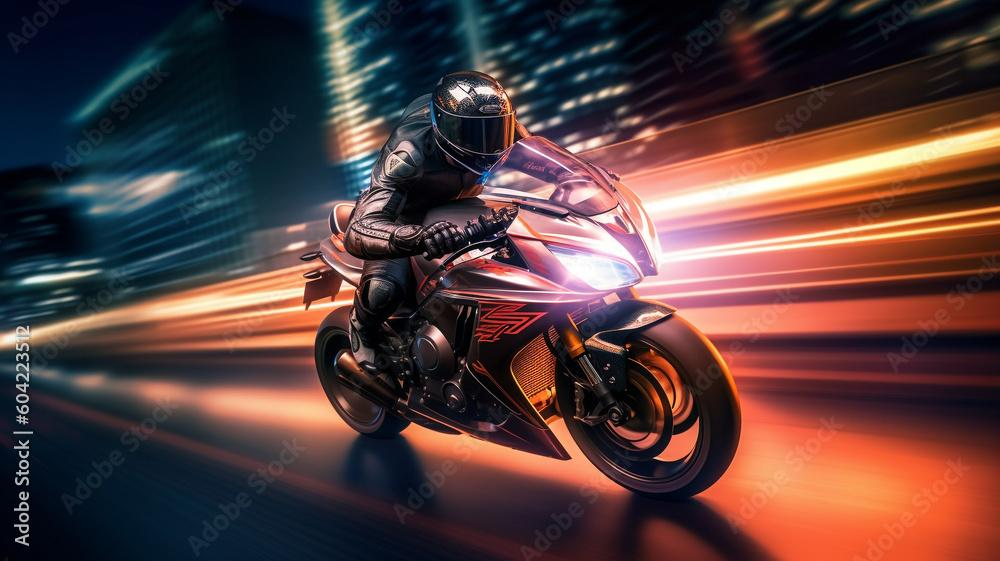helmet: (429, 69, 517, 178)
